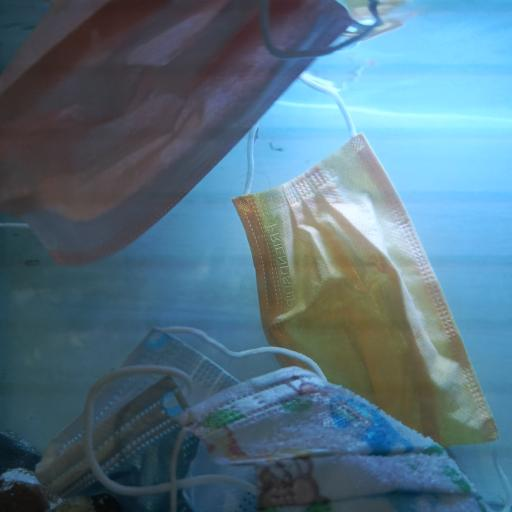mask: (231, 71, 512, 512), (1, 0, 401, 267), (33, 323, 328, 512), (169, 364, 495, 512)
